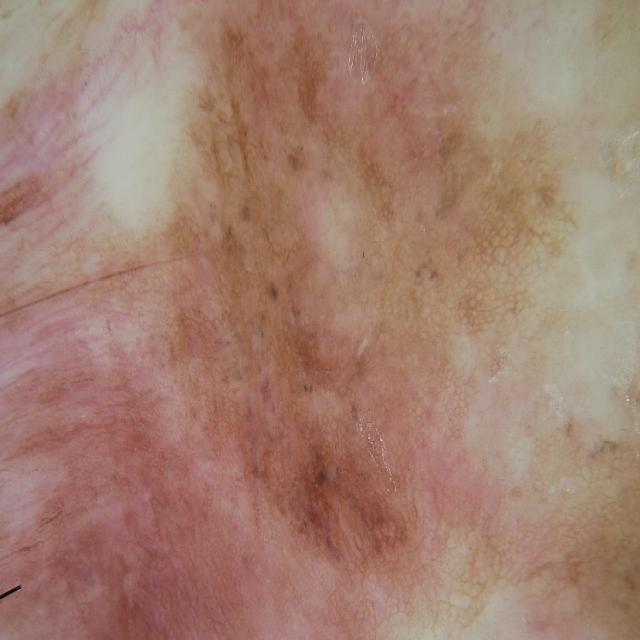Melanoma: (67, 182, 504, 640)
